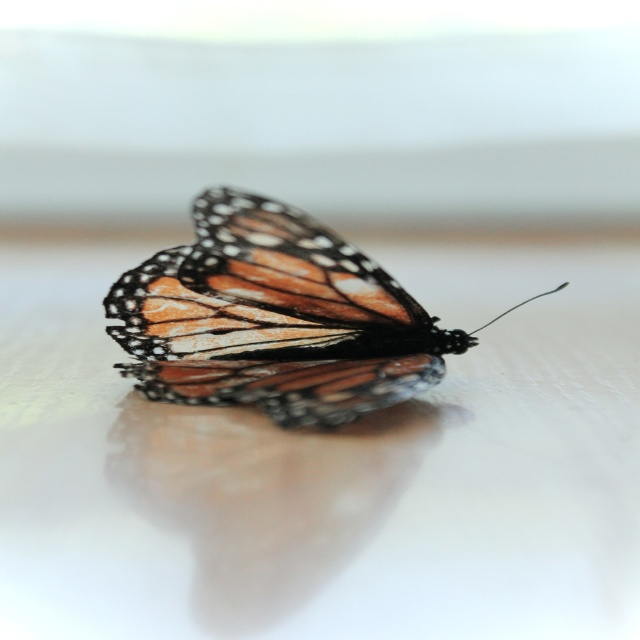Butterfly: (109, 176, 573, 422)
